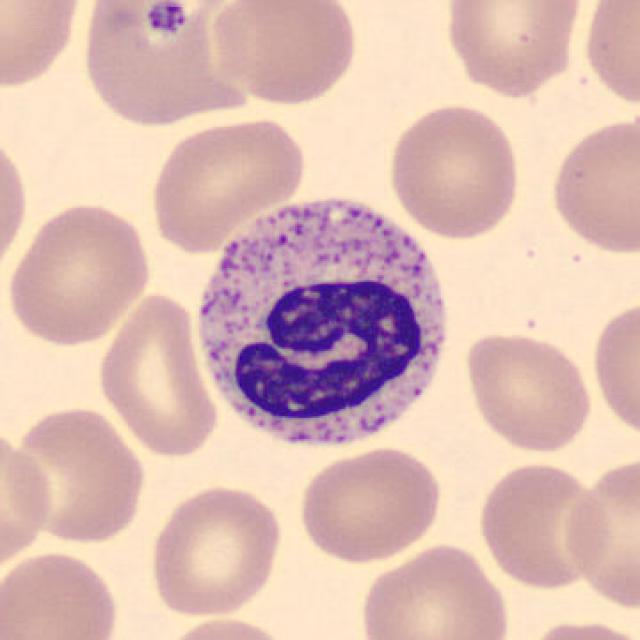Neutrophil: (187, 183, 460, 464)
Platelets: (142, 0, 190, 39)
RBC: (1, 198, 154, 349), (146, 113, 309, 254), (92, 289, 220, 462), (7, 402, 151, 548), (75, 0, 236, 129), (384, 98, 524, 242), (146, 481, 286, 621), (294, 442, 446, 566), (473, 458, 610, 590), (460, 328, 596, 455), (206, 0, 362, 109), (355, 539, 513, 640), (441, 0, 585, 99), (546, 113, 638, 257), (560, 453, 640, 614), (0, 546, 122, 640), (0, 419, 57, 576), (0, 0, 87, 93), (588, 294, 640, 444), (580, 0, 638, 111), (0, 124, 32, 282), (154, 613, 295, 640), (519, 617, 640, 640)
